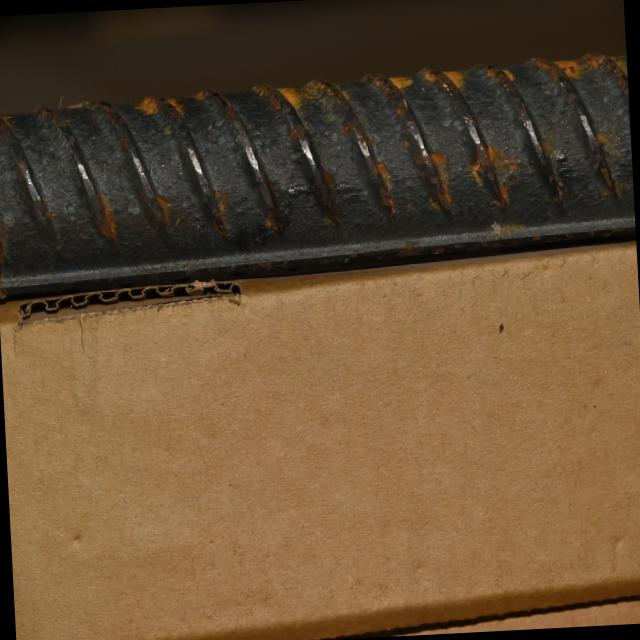ribbed bar: (0, 43, 636, 296)
